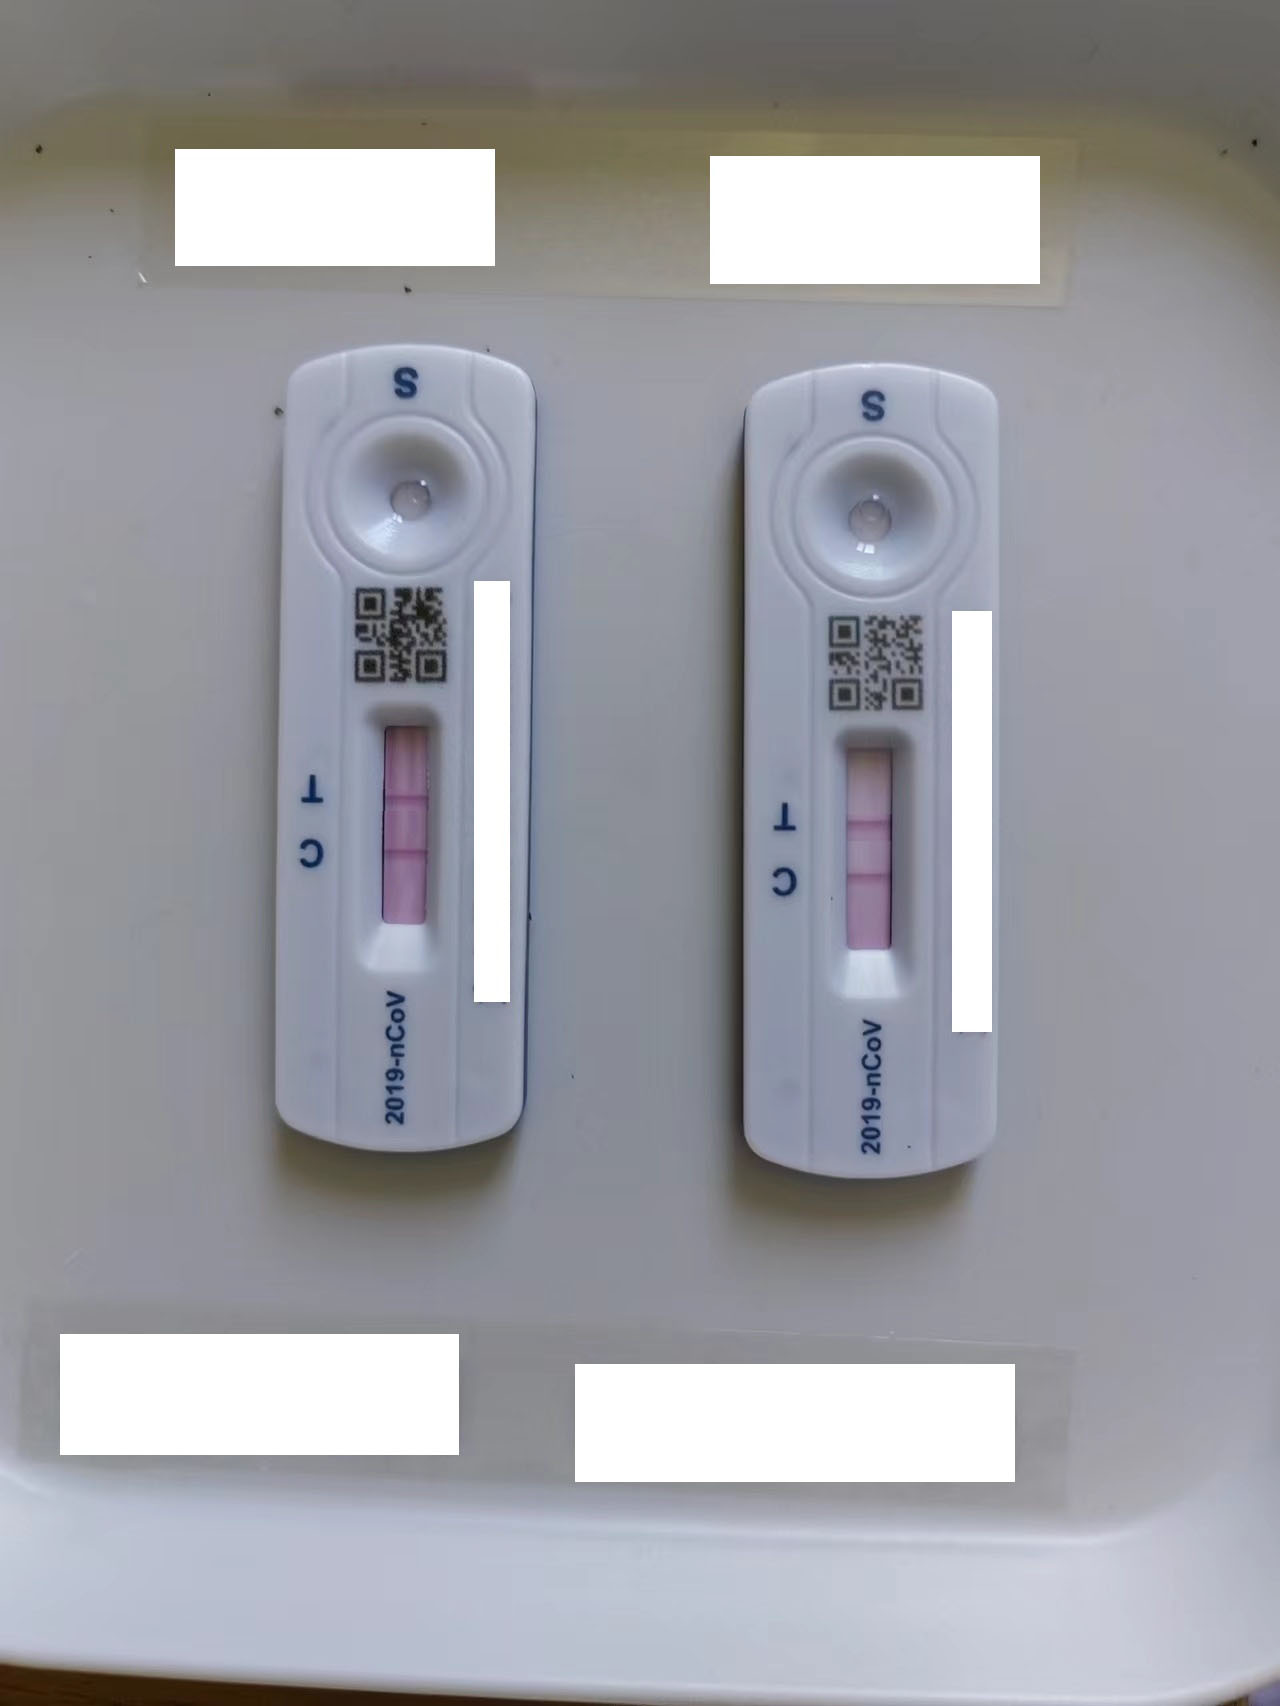positive: (828, 730, 916, 989), (363, 704, 441, 940)
